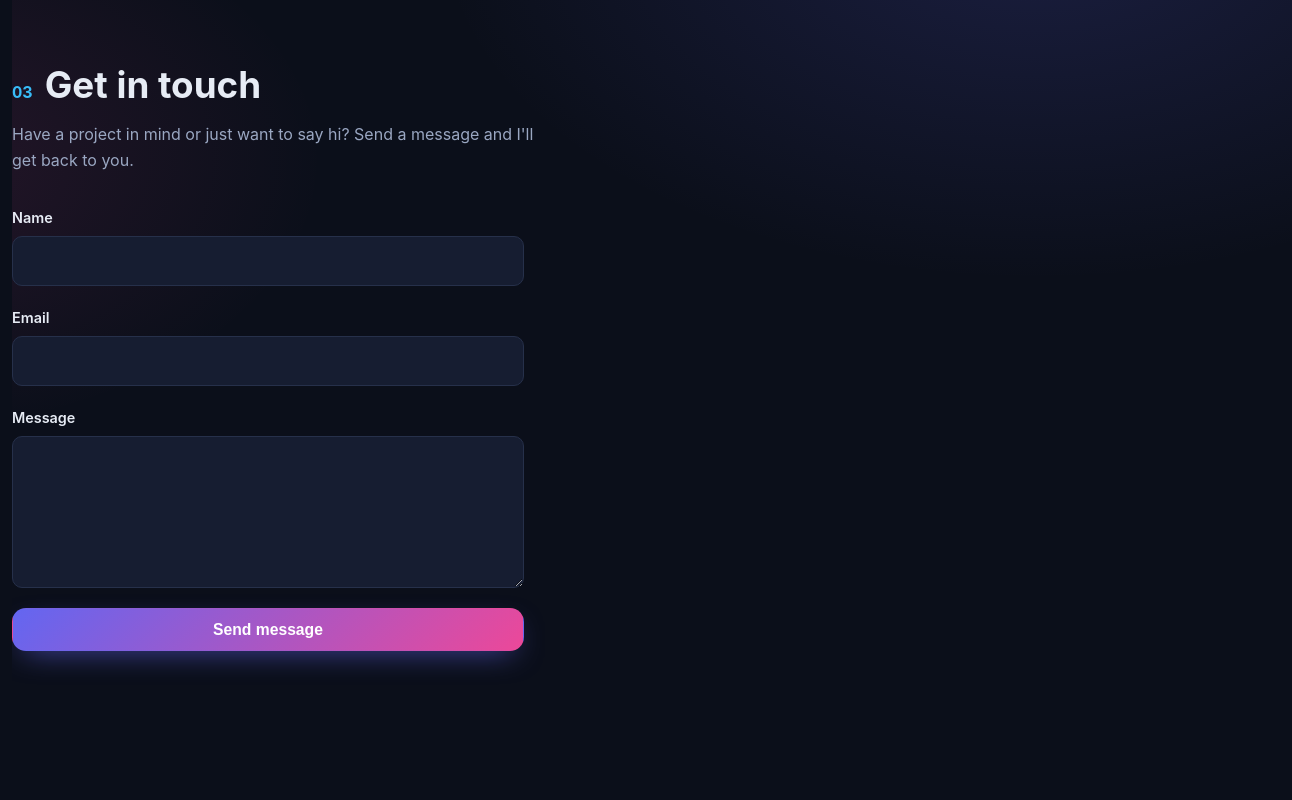
<Contact /> › shows a success message after a valid submission
Type "Ada Lovelace" into the field labelled "Name". click: (268, 261)
box: [12, 236, 524, 286]
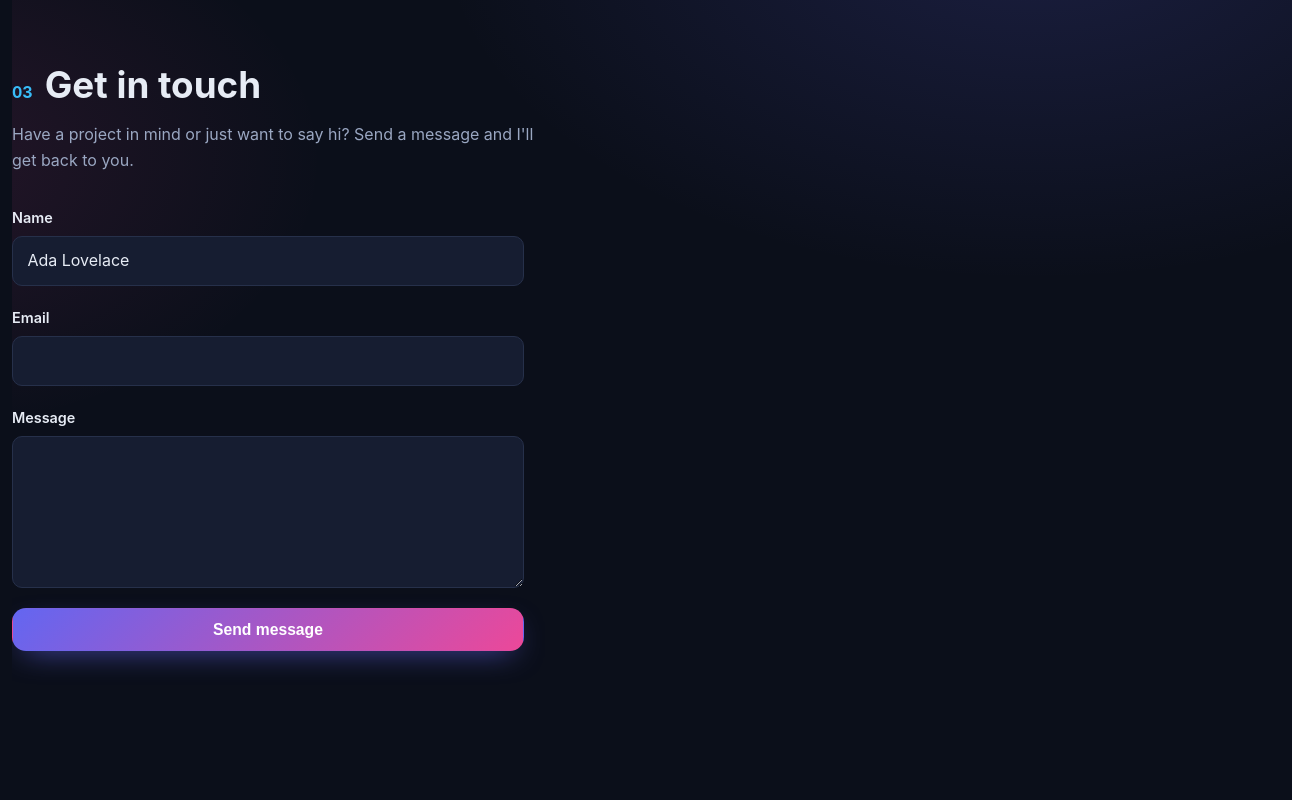
Type "ada@example.com" into the field labelled "Email". click: (268, 361)
box: [12, 336, 524, 386]
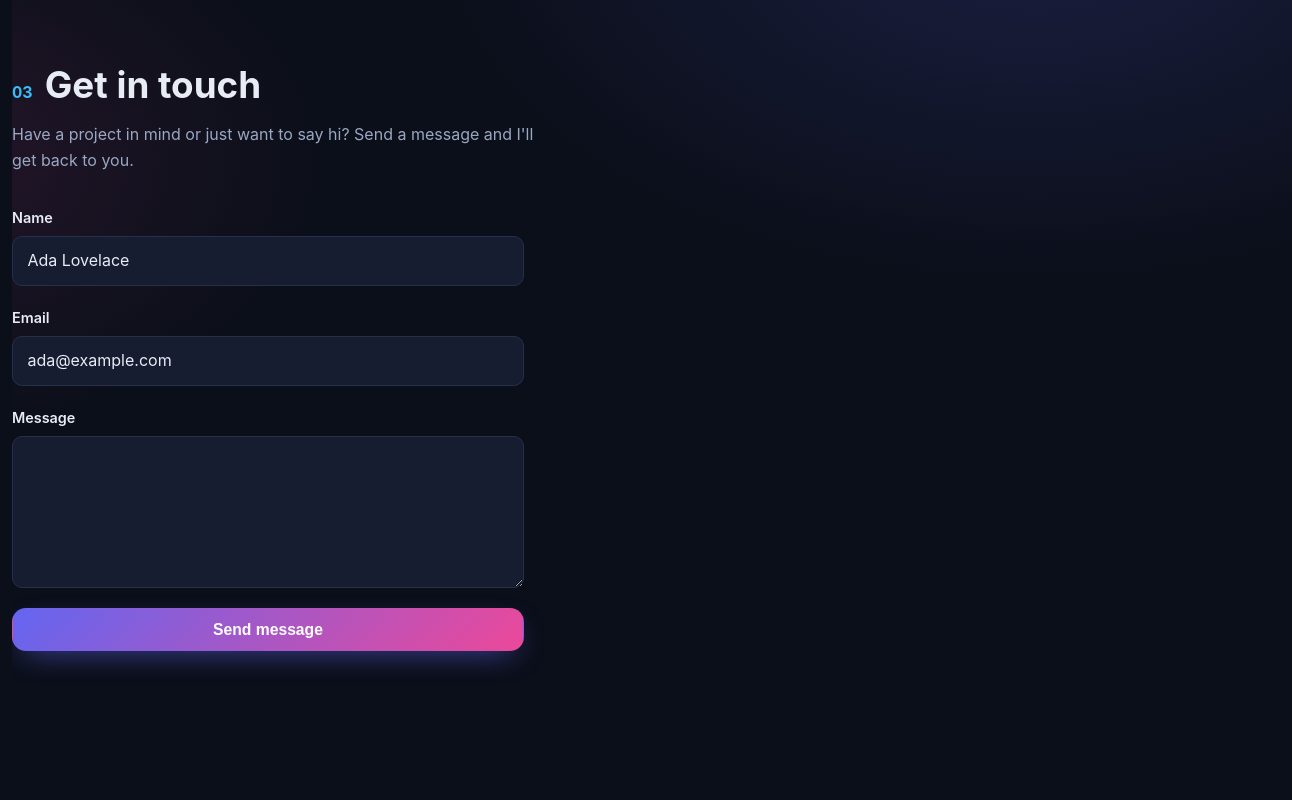
Type "I would love to collaborate." into the text box labelled "Message". click: (268, 512)
box: [12, 436, 524, 588]
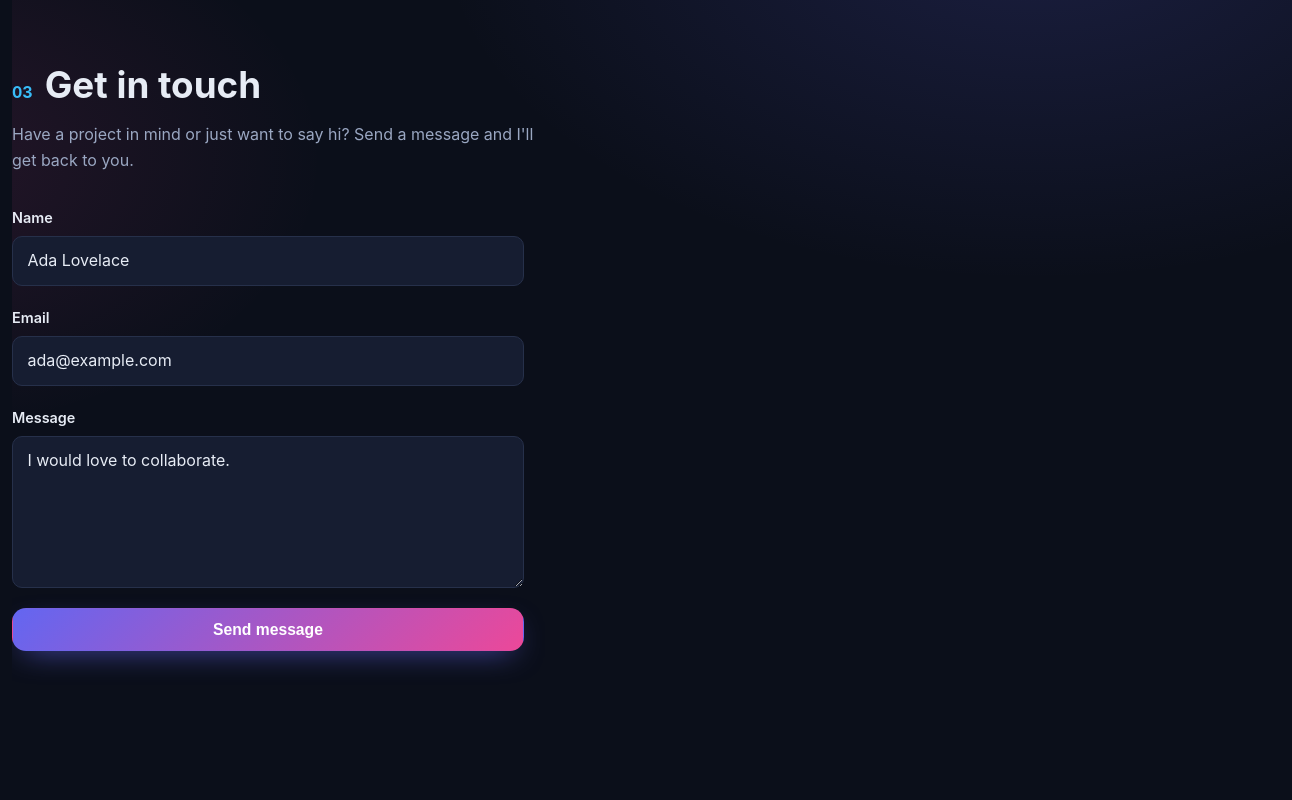
Click the button "Send message". click: (268, 630)
box: [12, 608, 524, 651]
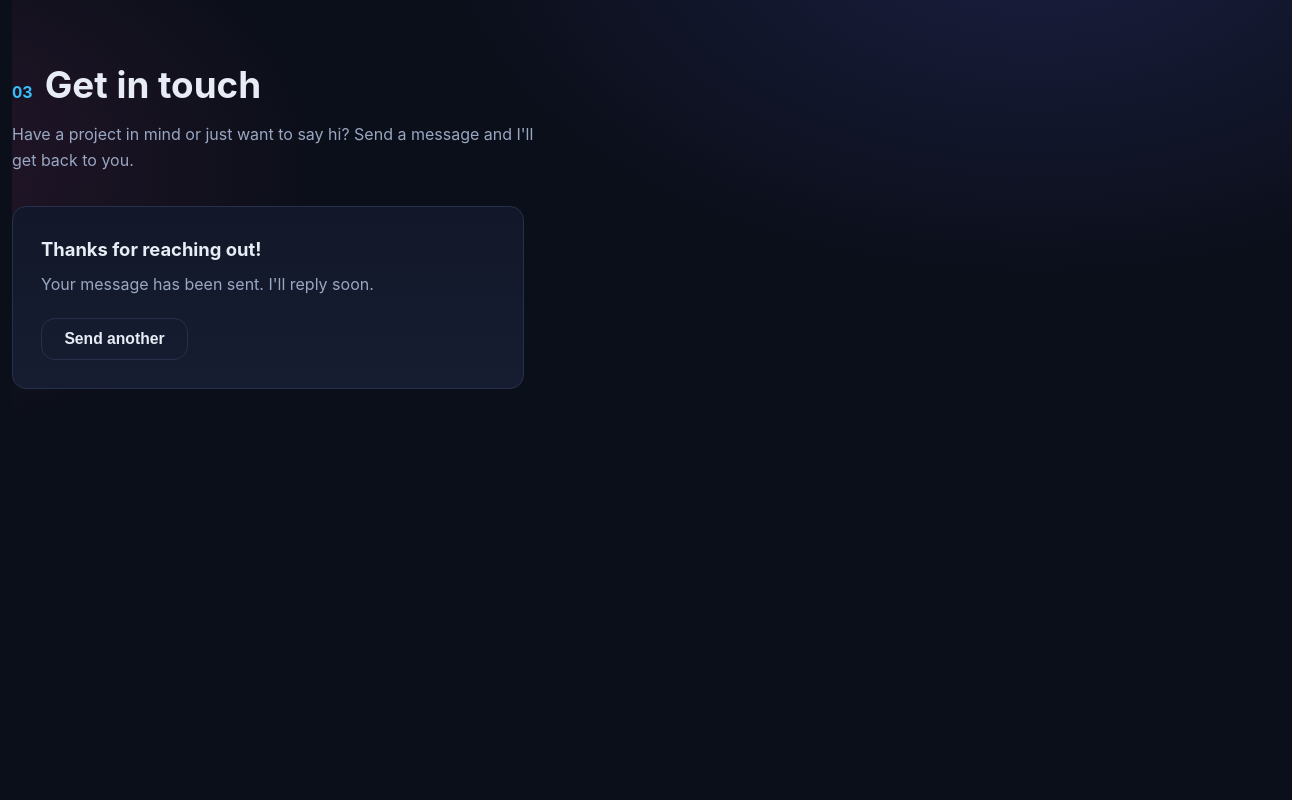
Now the text "Thanks for reaching out!" is shown, box [41, 238, 261, 260]
